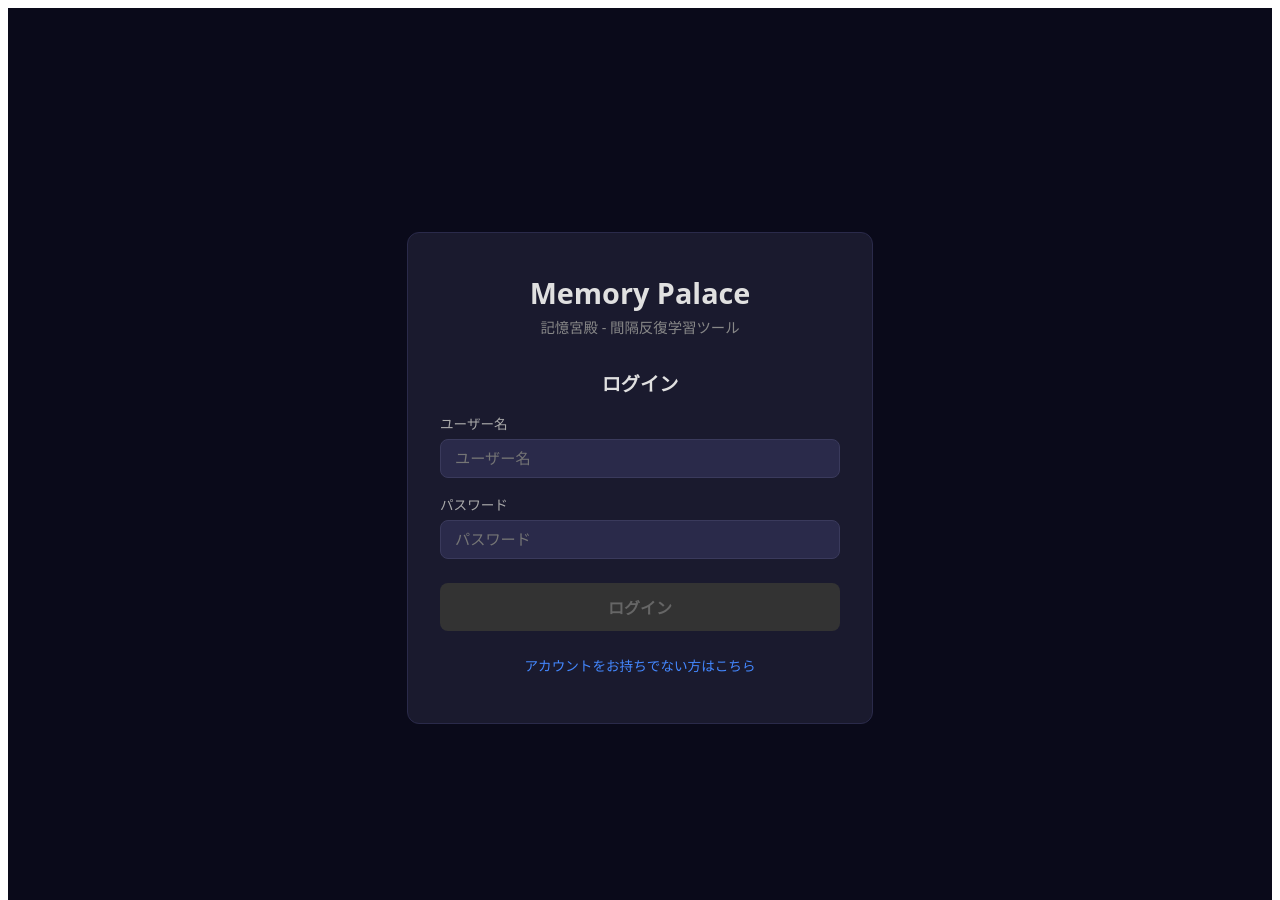
Test: LoginForm › shows a weak strength indicator for a short password in register mode
This screenshot has width=1280, height=900.
Click the button with test id "auth-toggle". click: (640, 665)
box: [440,647,840,683]
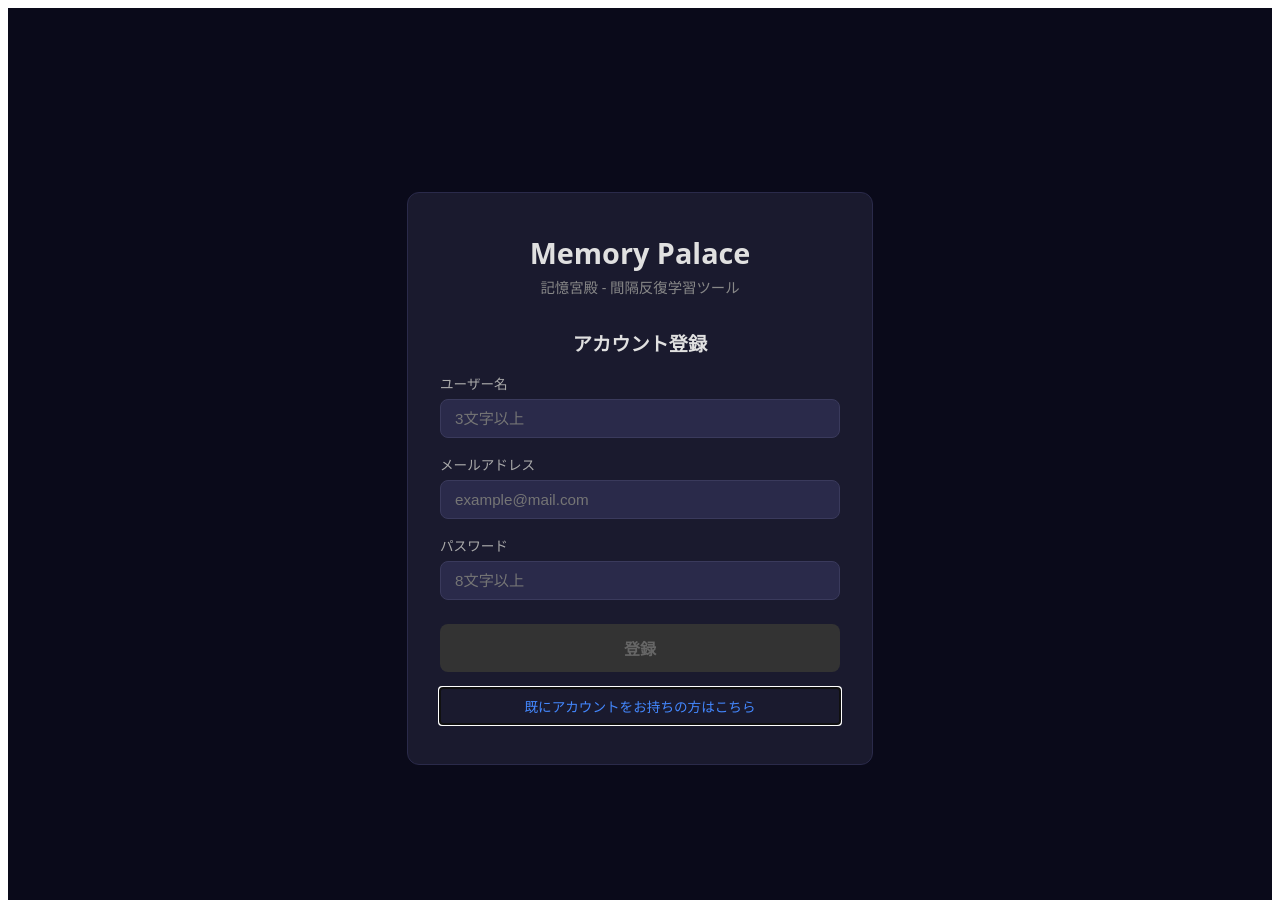
Type "abc" into the password field with test id "auth-password". click: (640, 580)
box: [440,560,840,600]
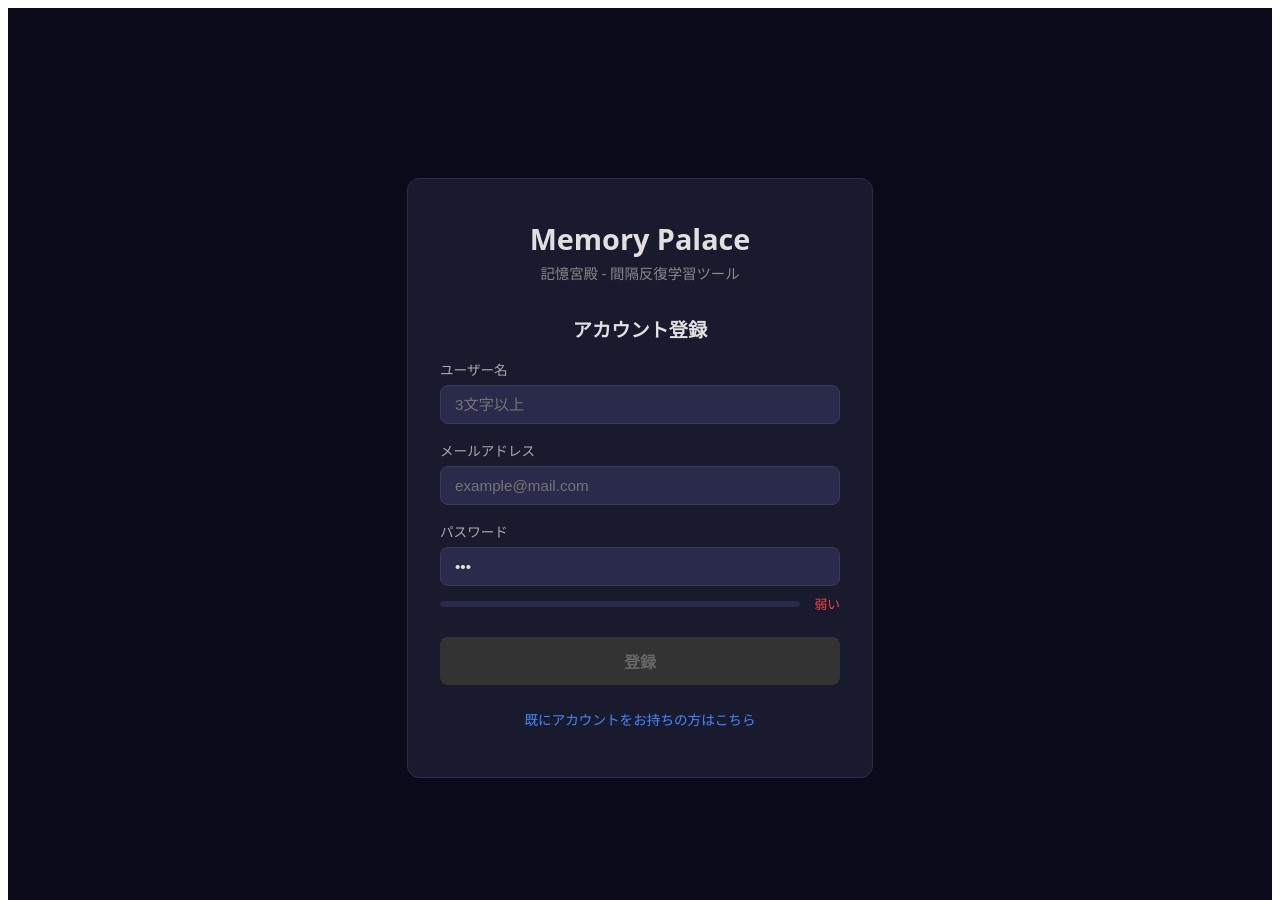
Expected: the text with test id "password-strength-label" reads "弱い", [814,595,840,613]
